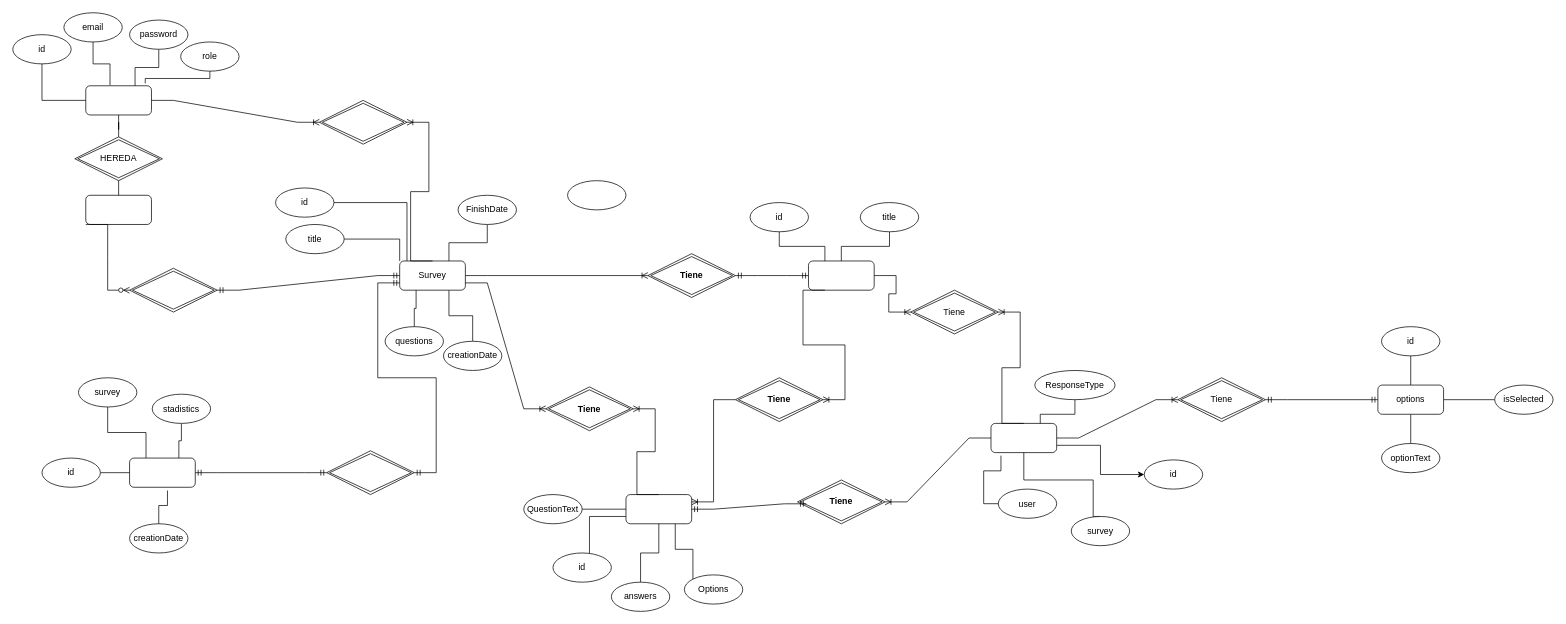
This 1566x624 diagram has some shape labels left out. Here are the shapes that lost their labels. From the top down, the box of each, then its label:
(85, 85, 151, 115): Usuario
(319, 100, 407, 144): Responde
(85, 195, 151, 224): Admin
(567, 180, 626, 210): description
(129, 268, 217, 312): Crea
(808, 260, 874, 290): SurveySection
(990, 423, 1057, 453): Question
(129, 457, 195, 487): report
(326, 450, 414, 495): Genera
(625, 494, 692, 524): Response
